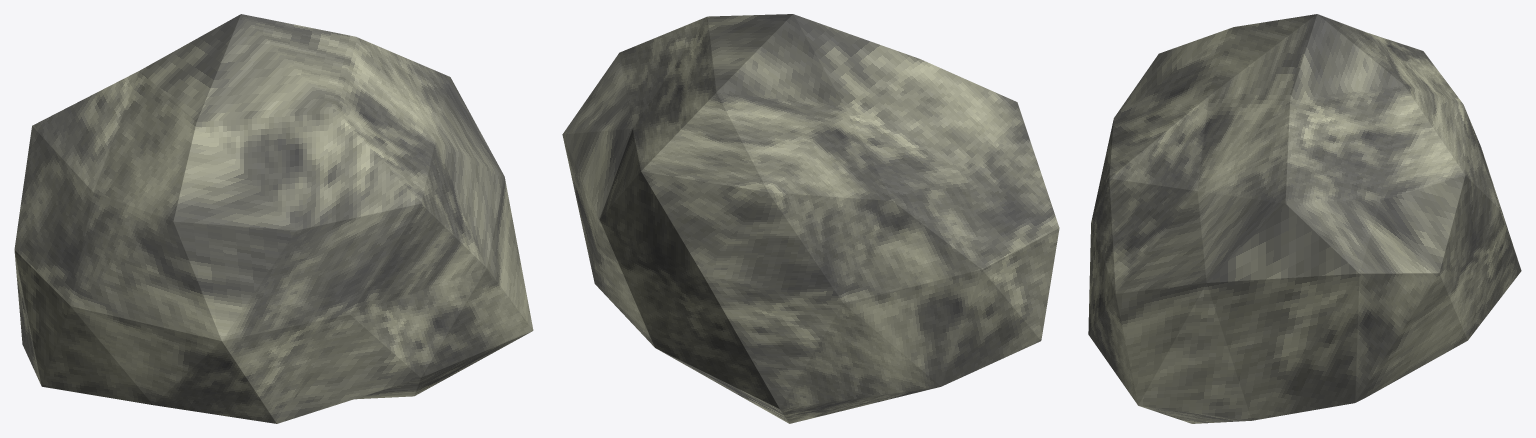
The model's file is Rock_A1.fbx.
The picture shows the model from 3 angles, left to right: view 1: azimuth 30°, elevation 25°; view 2: azimuth 150°, elevation 25°; view 3: azimuth 270°, elevation 25°; orthographic projection.
Parts seen in each view (by area): view 1: Rock_A1; view 2: Rock_A1; view 3: Rock_A1.
Part boxes in pixels (bbox=[...]): Rock_A1: bbox=[14, 14, 533, 423]; Rock_A1: bbox=[562, 14, 1059, 423]; Rock_A1: bbox=[1088, 14, 1521, 423].
Size of the model in its own units: 1.28 by 1.08 by 1.11.
